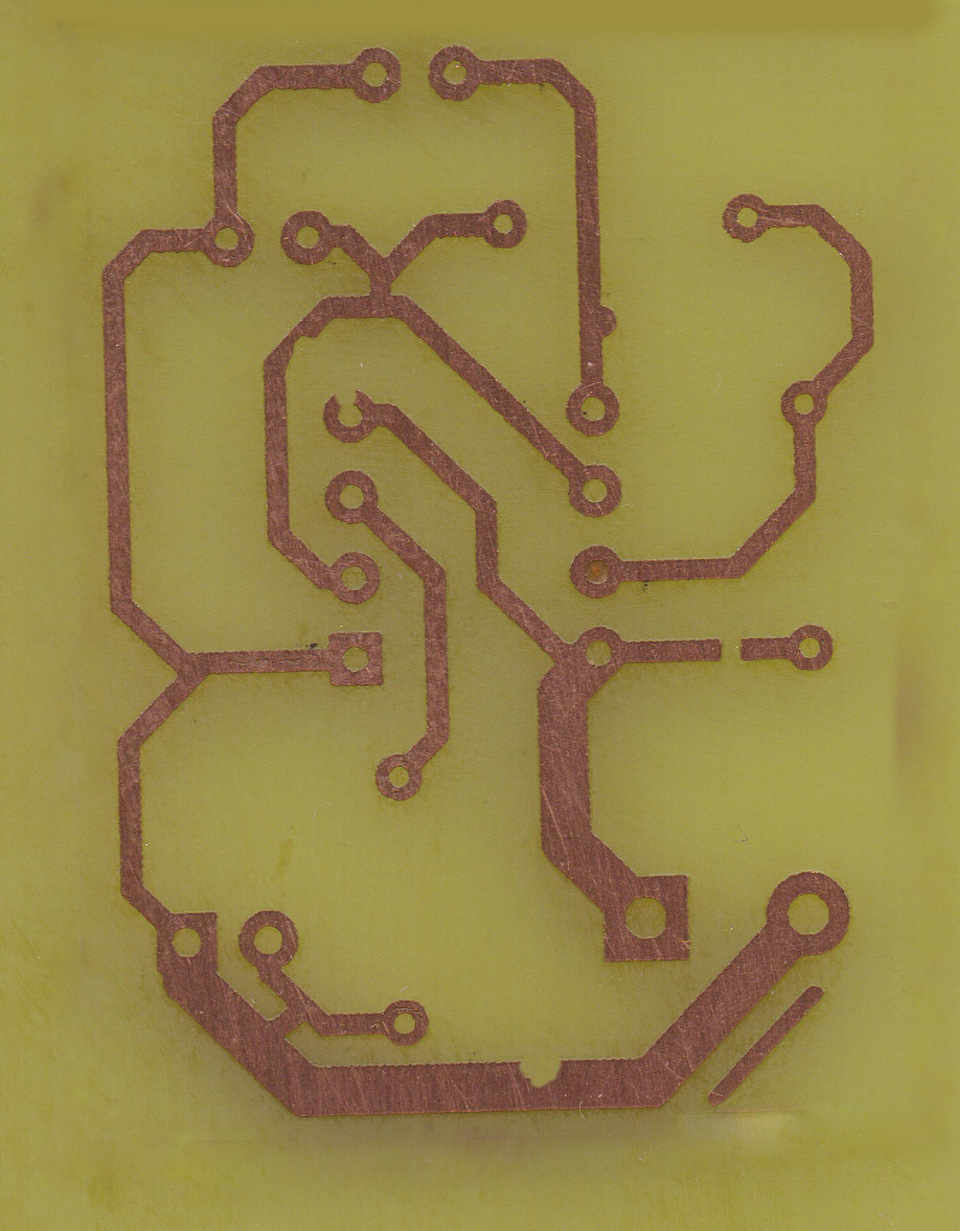missing_hole: (319, 386, 379, 446)
mouse_bite: (509, 1051, 572, 1123), (280, 318, 323, 365)
open_circuit: (703, 628, 757, 669)
short: (261, 988, 313, 1052)
spur: (568, 295, 624, 344)
spurious_copper: (696, 980, 832, 1121)
